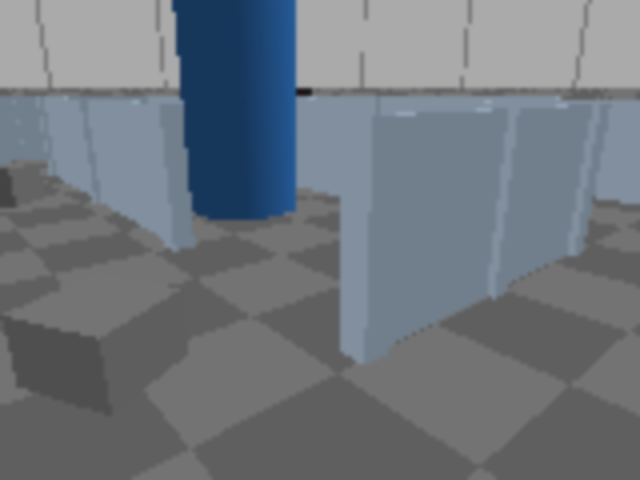obstacle: (0, 162, 45, 208)
